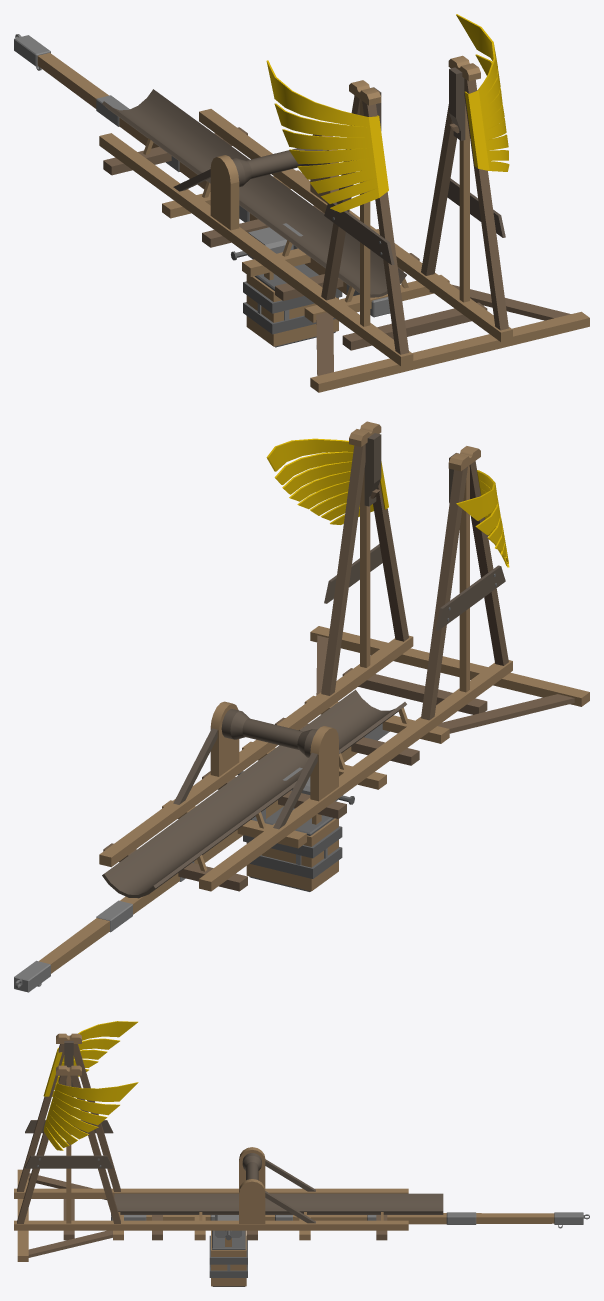
File: Trebuchet_counterweight.fbx
3 views of the same model, one above another, from view 1: azimuth 30°, elevation 25°; view 2: azimuth 150°, elevation 25°; view 3: azimuth 270°, elevation 25° (orthographic). The views are drawn at different scales.
Parts seen in each view (by area): view 1: Trebuchet_Base, Trebuchet_Arm, Trebuchet_counterweight; view 2: Trebuchet_Base, Trebuchet_Arm, Trebuchet_counterweight; view 3: Trebuchet_Base, Trebuchet_Arm, Trebuchet_counterweight.
Part boxes in pixels (left/top/right/bottom): Trebuchet_Base: left=99, top=14, right=589, bottom=392; Trebuchet_Arm: left=14, top=34, right=390, bottom=317; Trebuchet_counterweight: left=243, top=264, right=342, bottom=347; Trebuchet_Base: left=99, top=421, right=589, bottom=898; Trebuchet_Arm: left=14, top=723, right=389, bottom=992; Trebuchet_counterweight: left=243, top=806, right=342, bottom=891; Trebuchet_Base: left=14, top=1021, right=443, bottom=1261; Trebuchet_Arm: left=111, top=1212, right=589, bottom=1240; Trebuchet_counterweight: left=209, top=1230, right=247, bottom=1286.
Size of the model in its own units: 169 by 206 by 475.
